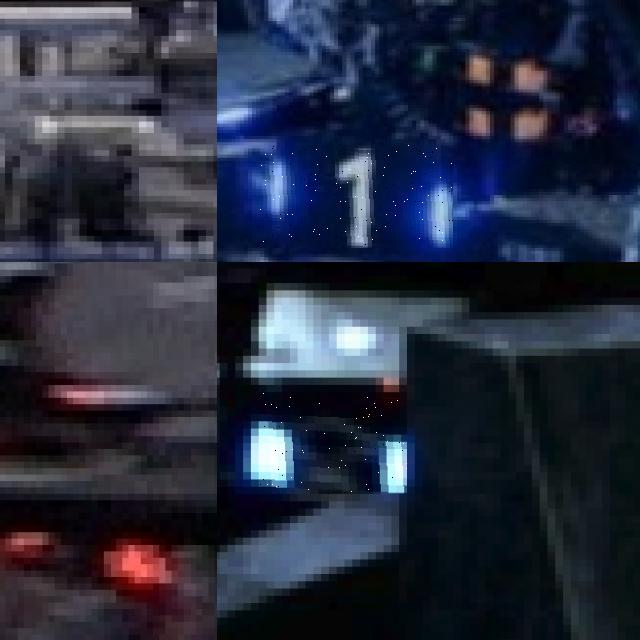B1: (256, 145, 453, 248)
Bs: (259, 392, 407, 494)
